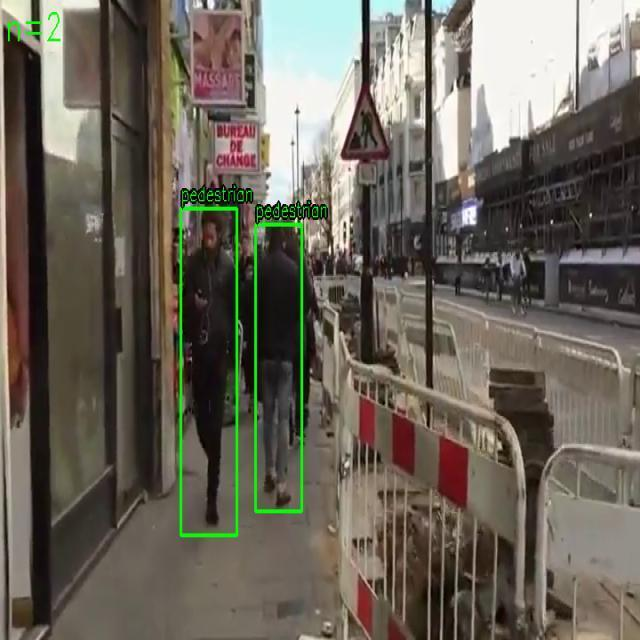person: (180, 208, 238, 536), (255, 224, 302, 512)
